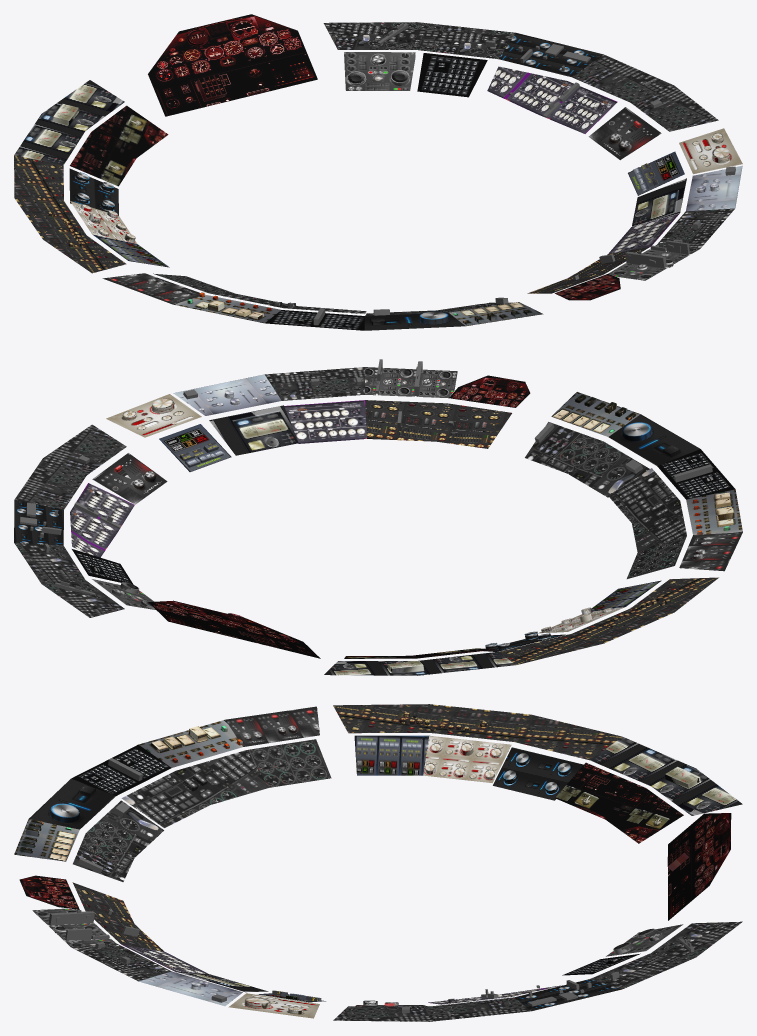
The model's file is ControlBoard.FBX.
3 renders of one model, top to bottom at view 1: azimuth 30°, elevation 25°; view 2: azimuth 150°, elevation 25°; view 3: azimuth 270°, elevation 25°, orthographic. The views are drawn at different scales.
Parts seen in each view (by area): view 1: Plane001, Object013, Object010, Object007, Object003, Object008, Object009, Object018, Object012, Object030, Object022, Object020 (+18 smaller); view 2: Object006, Object013, Object027, Object007, Object002, Object010, Plane001, Object024, Object021, Object008, Object003, Object023 (+19 smaller); view 3: Object013, Object002, Object009, Object003, Plane001, Object027, Object010, Object026, Object029, Object001, Object007, Object028 (+17 smaller).
Part boxes in pixels (x1,y1,x2,y2): Plane001: (148, 14, 317, 116); Object013: (14, 155, 126, 273); Object010: (323, 22, 515, 59); Object007: (571, 54, 718, 131); Object003: (14, 80, 124, 165); Object008: (487, 66, 617, 133); Object009: (70, 105, 168, 186); Object018: (344, 52, 416, 90); Object012: (417, 53, 487, 97); Object030: (499, 33, 603, 76); Object022: (588, 107, 661, 160); Object020: (686, 165, 742, 211); Object006: (365, 400, 511, 448); Object013: (499, 577, 718, 664); Object027: (525, 422, 649, 497); Object007: (14, 424, 126, 509); Object002: (608, 468, 686, 552); Object010: (14, 542, 124, 617); Plane001: (148, 600, 320, 658); Object024: (284, 400, 366, 443); Object021: (209, 405, 298, 455); Object008: (70, 483, 134, 557); Object003: (324, 651, 515, 675); Object023: (265, 367, 364, 400); Object013: (333, 704, 622, 760); Object002: (121, 750, 268, 827); Object009: (555, 762, 683, 843); Object003: (590, 737, 742, 815); Plane001: (667, 813, 731, 920); Object027: (73, 800, 163, 881); Object010: (590, 921, 742, 989); Object026: (423, 735, 511, 782); Object029: (493, 747, 583, 800); Object001: (354, 735, 428, 775); Object007: (333, 997, 531, 1021); Object028: (246, 739, 331, 787).
Size of the model in its own units: 0.6198 by 0.0558 by 0.6011.
Materials: 15 (13 with a texture image).
